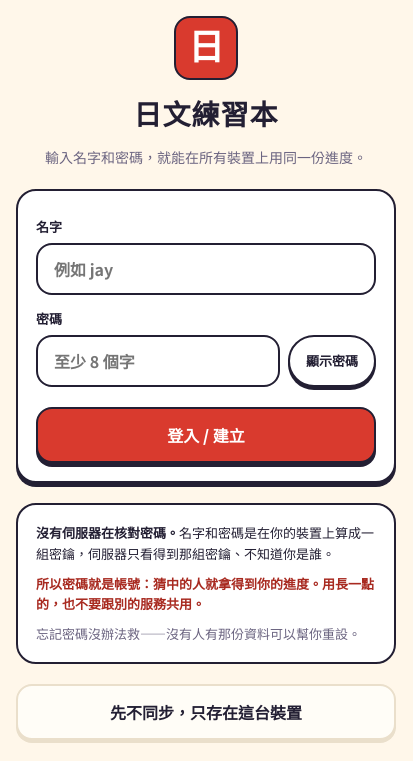
Test: 登入頁 › 連不上伺服器就說清楚，不要假裝登入成功
In the field labelled "名字": (206,269) [36,243,376,295], type "jay"
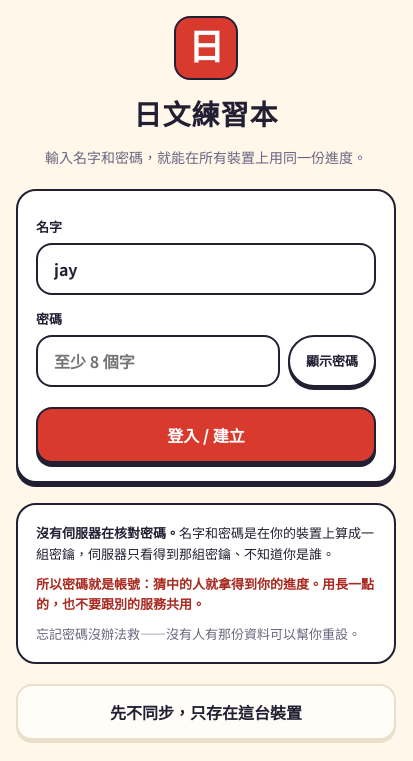
In the password field labelled "密碼": (158,361) [36,335,280,387], type "hunter2hunter2"
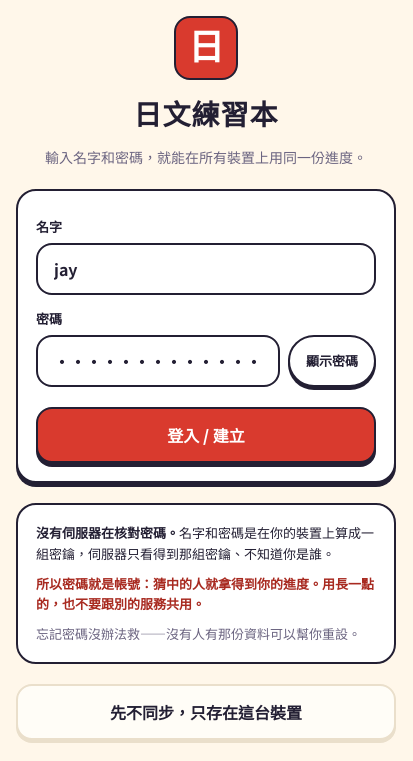
Click the button "登入 / 建立": (206,435) [36,407,376,463]
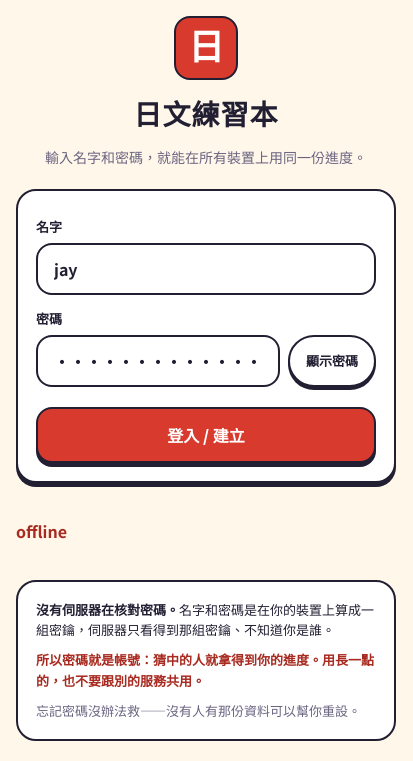
Expected: the text "offline" is shown, [16,519,67,543]
